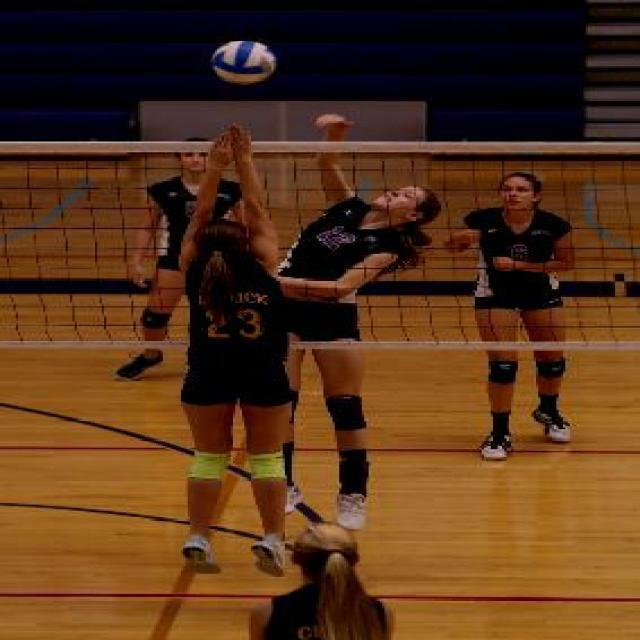volleyball: (212, 41, 274, 84)
